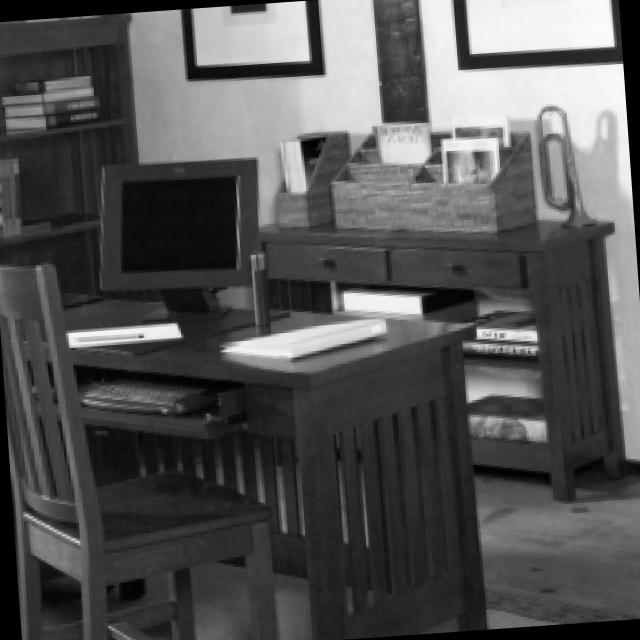book case: (471, 390, 551, 439)
books crop: (6, 70, 104, 126), (345, 282, 480, 315), (459, 305, 540, 355), (0, 153, 25, 234)
bookshelf: (0, 12, 138, 313)
chair -occluded-: (0, 261, 282, 640)
desk calendar: (63, 295, 491, 633)
files: (333, 126, 536, 230), (276, 127, 356, 225)
folder: (224, 318, 391, 354)
instrument: (538, 103, 604, 226)
keyboard crop: (79, 372, 218, 415)
magazine holder: (442, 134, 502, 181), (455, 111, 513, 144)
magazines: (285, 132, 327, 188)
monitor crop: (100, 154, 262, 320)
painting crop: (183, 0, 328, 78), (456, 0, 623, 67)
paper cup with straws: (71, 317, 188, 345)
papers: (379, 117, 436, 160)
pencil: (78, 327, 146, 339)
pens: (255, 251, 272, 322)
rug -partially obscured-: (489, 584, 639, 626)
side: (263, 213, 631, 501)
